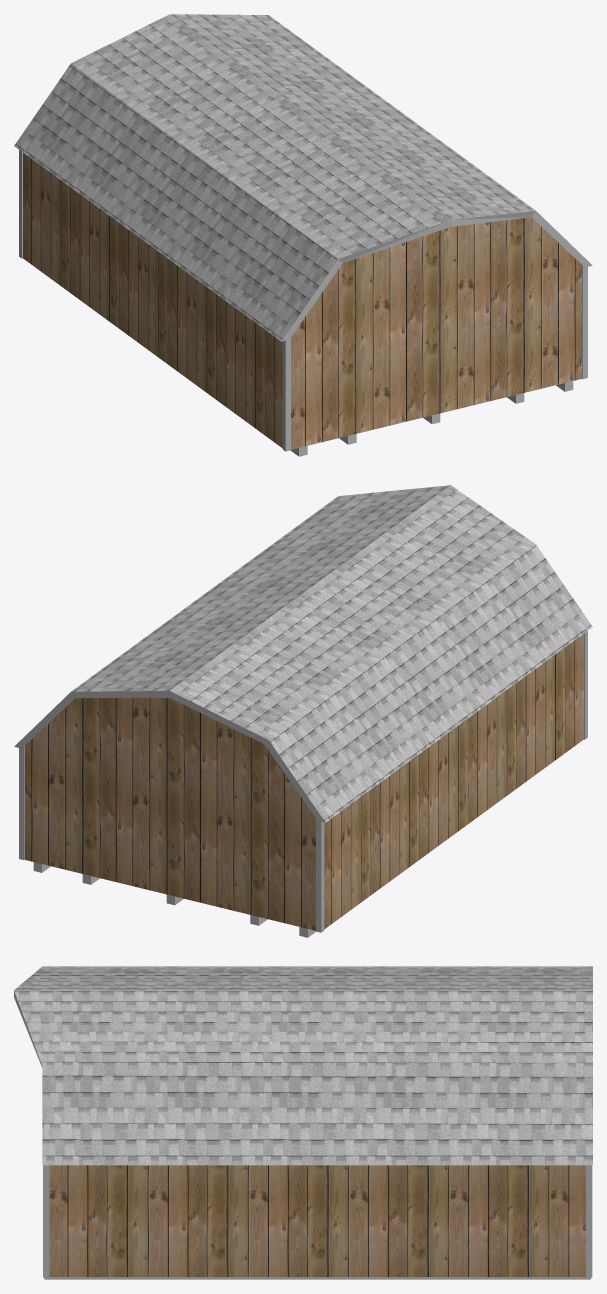
File: Mini Barn Sheds_12x18.obj
The picture shows the model from 3 angles, top to bottom: view 1: azimuth 30°, elevation 25°; view 2: azimuth 150°, elevation 25°; view 3: azimuth 270°, elevation 25°; orthographic projection. The views are drawn at different scales.
Parts seen in each view (by area): view 1: Roof, Shed, Sides, Trim, Floor; view 2: Roof, Shed, Sides, Trim, Floor; view 3: Roof, Shed, Floor, Trim.
Boxes of the visible parts, x1=… form: Roof: x1=14, y1=14, x2=535, y2=341; Shed: x1=23, y1=153, x2=581, y2=449; Sides: x1=281, y1=210, x2=592, y2=341; Trim: x1=19, y1=150, x2=587, y2=451; Floor: x1=291, y1=381, x2=573, y2=456; Roof: x1=71, y1=485, x2=592, y2=822; Shed: x1=25, y1=634, x2=583, y2=930; Sides: x1=14, y1=691, x2=325, y2=822; Trim: x1=19, y1=631, x2=587, y2=932; Floor: x1=33, y1=862, x2=315, y2=937; Roof: x1=14, y1=966, x2=592, y2=1165; Shed: x1=49, y1=1165, x2=585, y2=1276; Floor: x1=44, y1=1277, x2=590, y2=1279; Trim: x1=43, y1=1165, x2=592, y2=1277.
Size of the model in its own units: 3.72 by 2.44 by 5.81.
